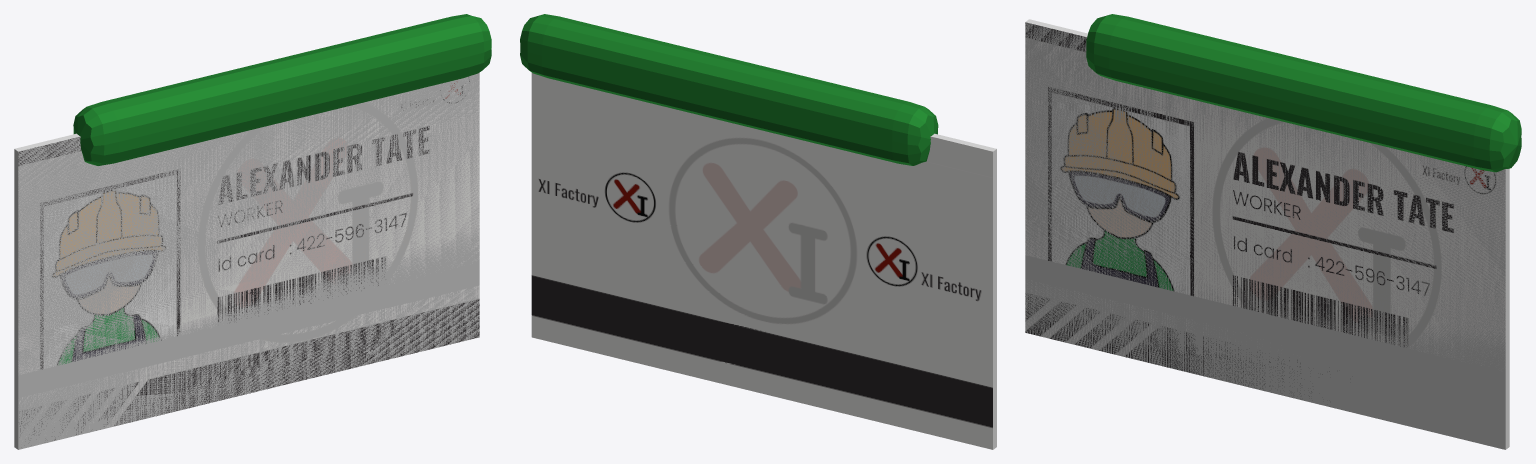
Rendered from ID_Card_GREEN.fbx.
3 views of the same model, side by side, from view 1: azimuth 30°, elevation 25°; view 2: azimuth 150°, elevation 25°; view 3: azimuth 330°, elevation 25° (orthographic). The views are drawn at different scales.
Parts seen in each view (by area): view 1: Black and White Modern Copywriter ID Card, Cube, 圓柱體; view 2: Cube, 圓柱體; view 3: Black and White Modern Copywriter ID Card, Cube, 圓柱體.
Boxes of the visible parts, bbox=[...] form: Black and White Modern Copywriter ID Card: bbox=[18, 72, 479, 449]; Cube: bbox=[14, 76, 479, 449]; 圓柱體: bbox=[73, 14, 491, 165]; Cube: bbox=[531, 72, 996, 449]; 圓柱體: bbox=[520, 14, 938, 165]; Black and White Modern Copywriter ID Card: bbox=[1025, 22, 1505, 449]; Cube: bbox=[1025, 19, 1509, 449]; 圓柱體: bbox=[1086, 14, 1521, 172].
Size of the model in its own units: 1.6 by 1.05 by 0.1406.
